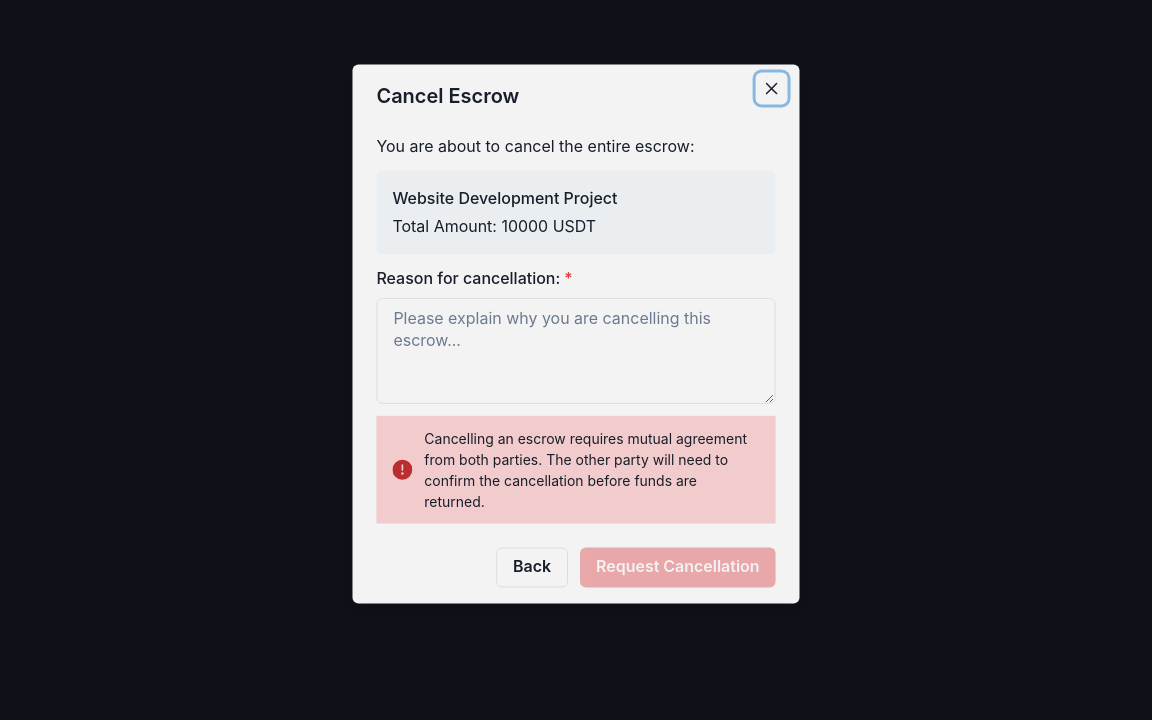
Test case: CancelEscrowModal › enables request button when reason is provided
In the text box labelled "Reason for cancellation:*": (576, 351) left=376, top=298, right=776, bottom=404, type "Valid cancellation reason"
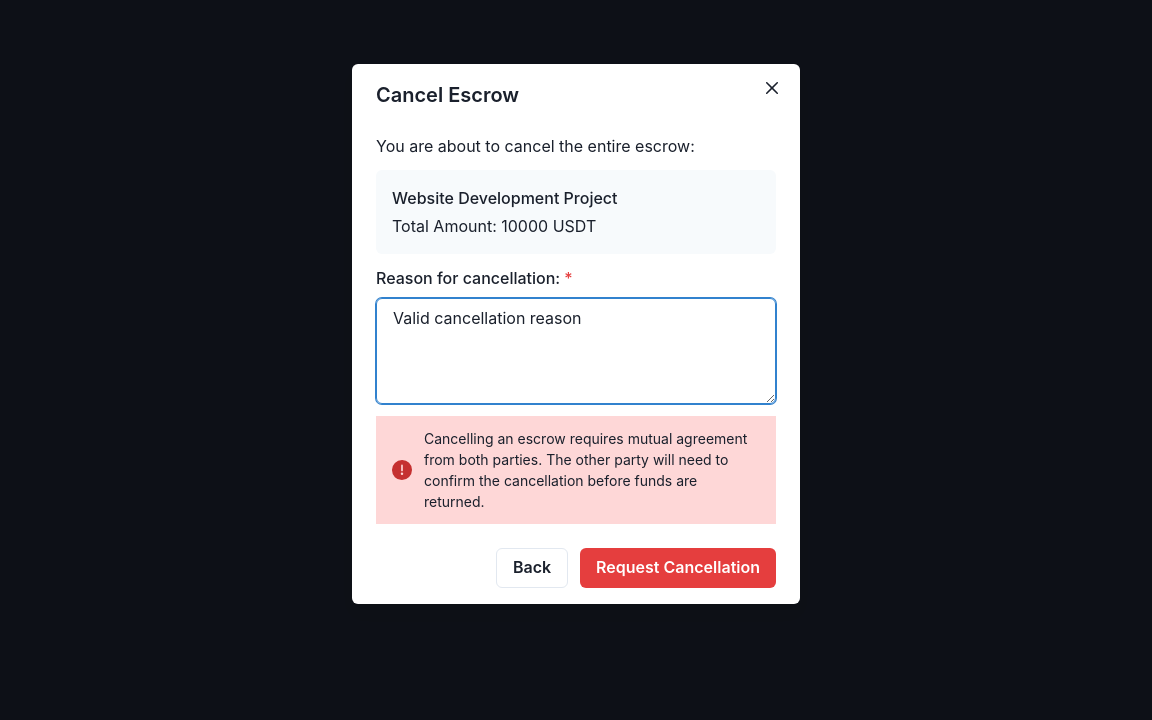
Expected: the button "Request Cancellation" is enabled, left=580, top=548, right=776, bottom=588
